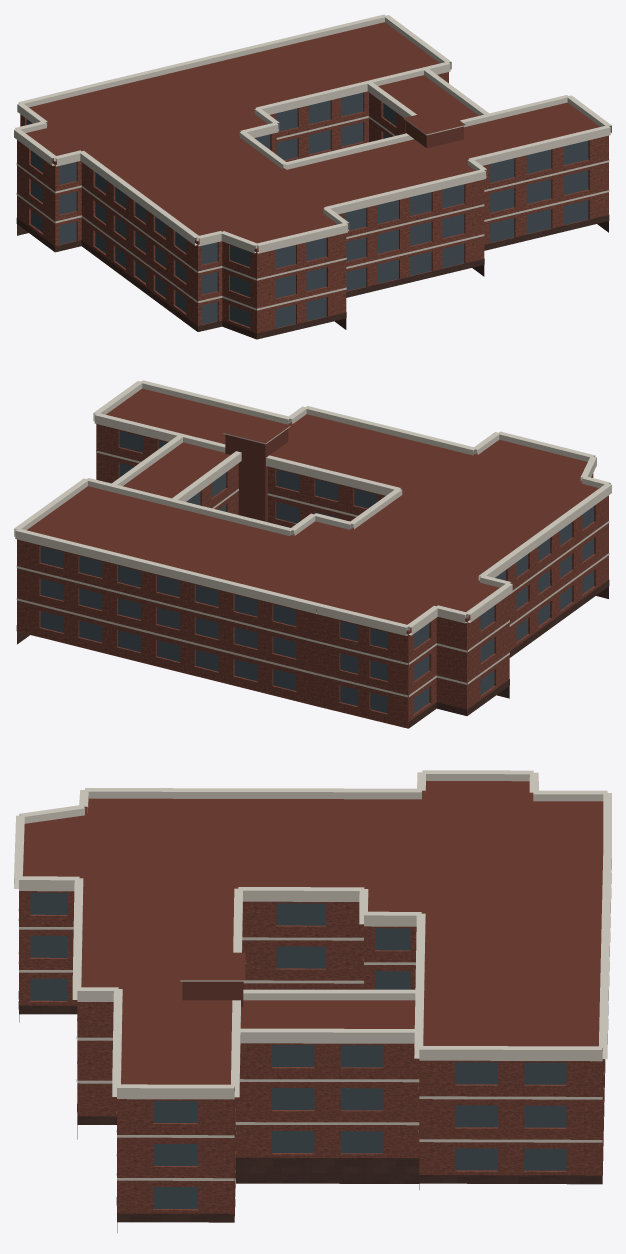
The picture shows the model from 3 angles, top to bottom: view 1: azimuth 30°, elevation 25°; view 2: azimuth 150°, elevation 25°; view 3: azimuth 270°, elevation 25°; orthographic projection. The views are drawn at different scales.
Visible parts, largest first — view 1: taeWulGwan__roof, taeWulGwan__wall, taeWulGwan__trim, taeWulGwan__glass, taeWulGwan__base, taeWulGwan__wall2; view 2: taeWulGwan__roof, taeWulGwan__wall, taeWulGwan__trim, taeWulGwan__glass, taeWulGwan__wall2, taeWulGwan__base; view 3: taeWulGwan__roof, taeWulGwan__wall, taeWulGwan__trim, taeWulGwan__glass, taeWulGwan__base, taeWulGwan__wall2.
Boxes of the visible parts, x1,y1,x2,y2 form: taeWulGwan__roof: (26,22,599,249); taeWulGwan__wall: (17,72,608,338); taeWulGwan__trim: (14,14,611,310); taeWulGwan__glass: (26,92,588,328); taeWulGwan__base: (16,215,609,339); taeWulGwan__wall2: (406,120,463,147); taeWulGwan__roof: (19,388,599,728); taeWulGwan__wall: (17,424,608,728); taeWulGwan__trim: (14,380,611,697); taeWulGwan__glass: (40,431,593,713); taeWulGwan__wall2: (225,428,288,522); taeWulGwan__base: (16,580,609,728); taeWulGwan__roof: (23,781,603,1222); taeWulGwan__wall: (19,891,605,1215); taeWulGwan__trim: (14,770,611,1180); taeWulGwan__glass: (30,892,566,1208); taeWulGwan__base: (18,991,602,1232); taeWulGwan__wall2: (182,981,243,1007).
Size of the model in its own units: 58.73 by 15 by 46.64.
9 materials, 2 textured.
